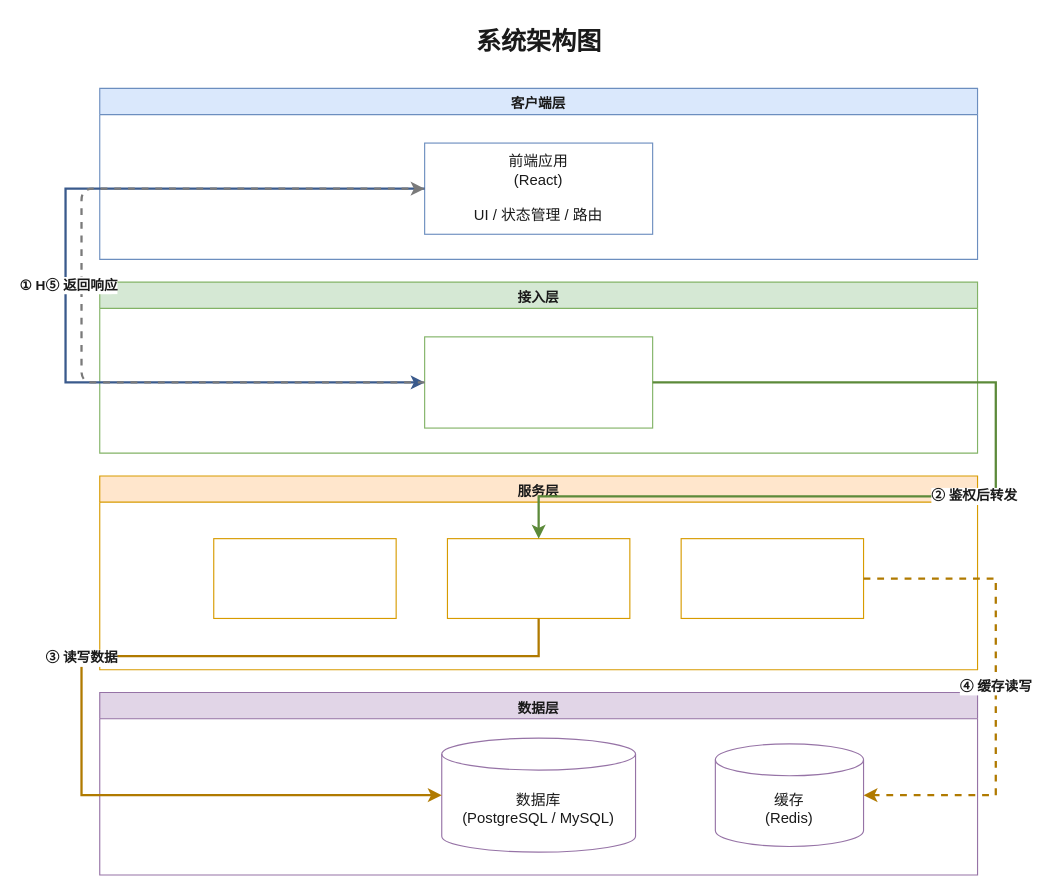
Image size: 1051x895. Some labels were removed from this diagram. Each missing label, with the centre of its shape:
"API 网关 认证鉴权 / 限流 / 路由转发" goes at pixel 538 382.
"业务服务" goes at pixel 772 578.
"用户服务" goes at pixel 304 578.
"订单服务" goes at pixel 538 578.
